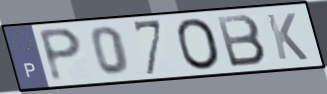0: (88, 24, 133, 78)
7: (131, 19, 167, 78)
B: (214, 13, 269, 70)
K: (264, 12, 311, 62)
O: (174, 16, 224, 72)
P: (36, 26, 85, 84)
